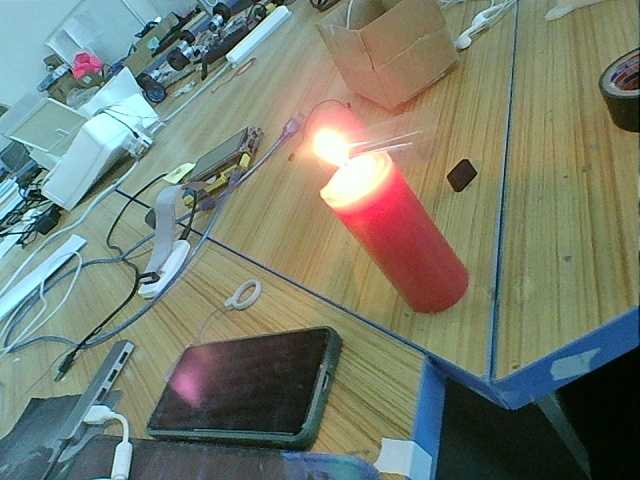candle: (328, 198, 466, 322)
fire: (294, 129, 398, 199)
